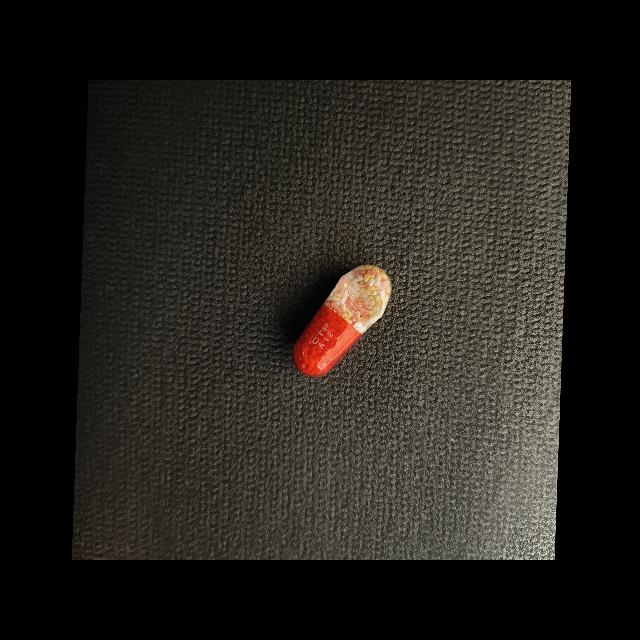Defective Capsule: (292, 265, 392, 377)
